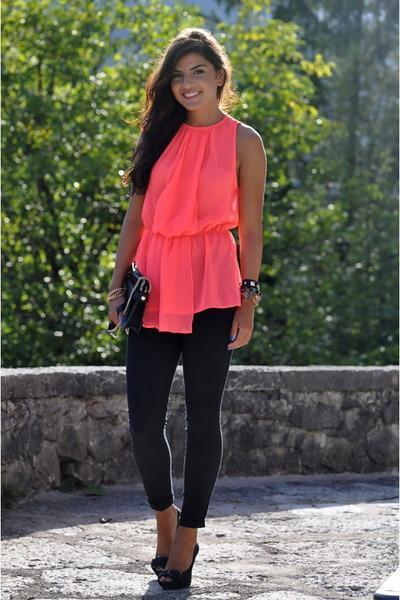bag: (117, 265, 148, 340)
pants: (114, 307, 236, 528)
shirt: (132, 116, 241, 333)
